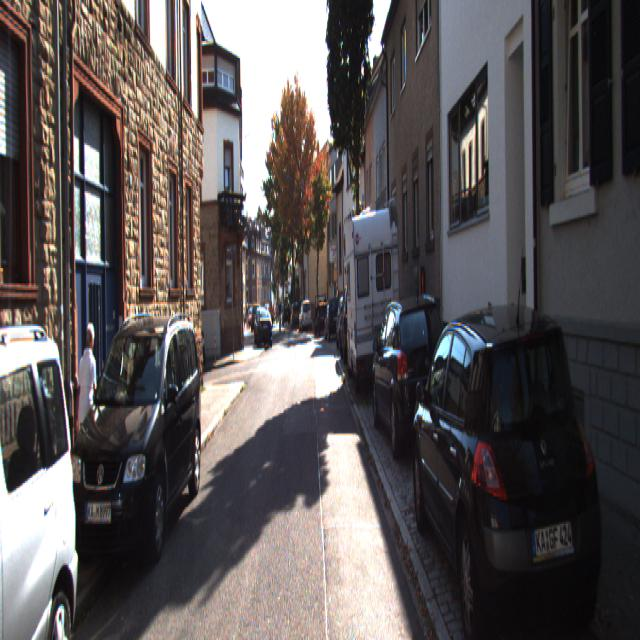Car: (409, 294, 614, 638), (69, 312, 203, 589), (0, 319, 97, 639), (370, 293, 456, 467), (341, 195, 403, 398), (339, 278, 366, 364), (335, 294, 360, 361), (311, 297, 331, 341), (324, 297, 341, 341), (256, 311, 273, 351), (298, 303, 313, 334)
